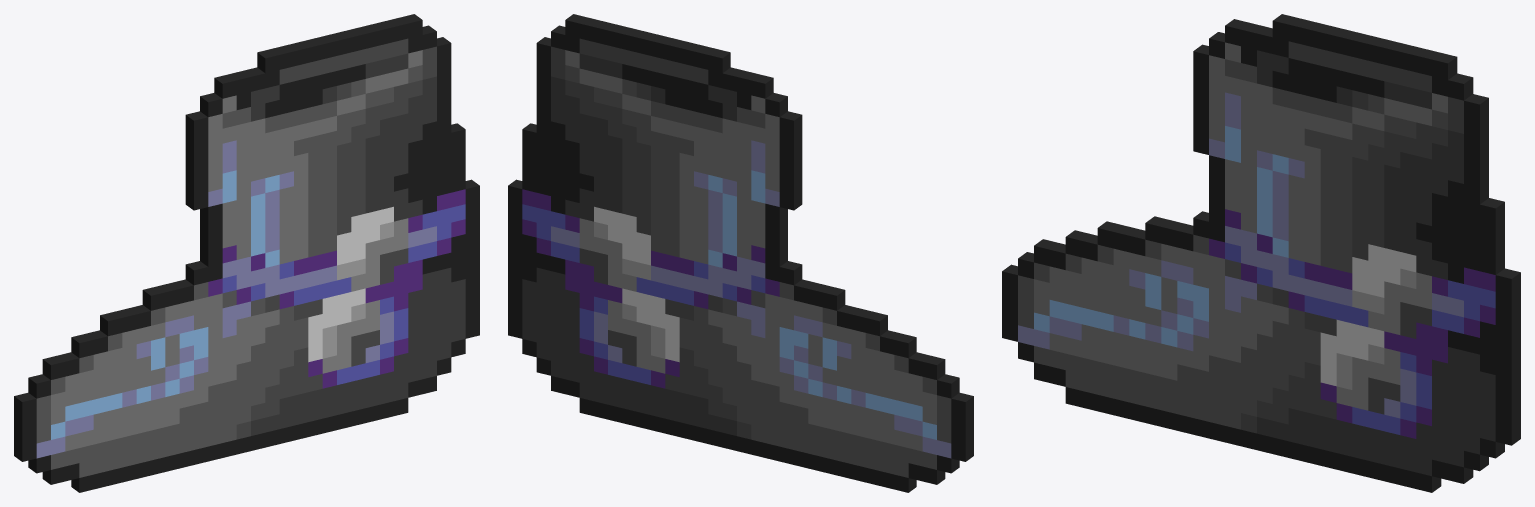
The model's file is A_Shoes06.fbx.
The picture shows the model from 3 angles, left to right: view 1: azimuth 30°, elevation 25°; view 2: azimuth 150°, elevation 25°; view 3: azimuth 330°, elevation 25°; orthographic projection. The views are drawn at different scales.
Visible parts, largest first — view 1: Default; view 2: Default; view 3: Default.
Boxes of the visible parts, x1,y1,x2,y2 form: Default: (14,14,479,492); Default: (508,14,973,492); Default: (1002,14,1520,492).
Size of the model in its own units: 32 by 26 by 1.
Materials: 1 (1 with a texture image).
